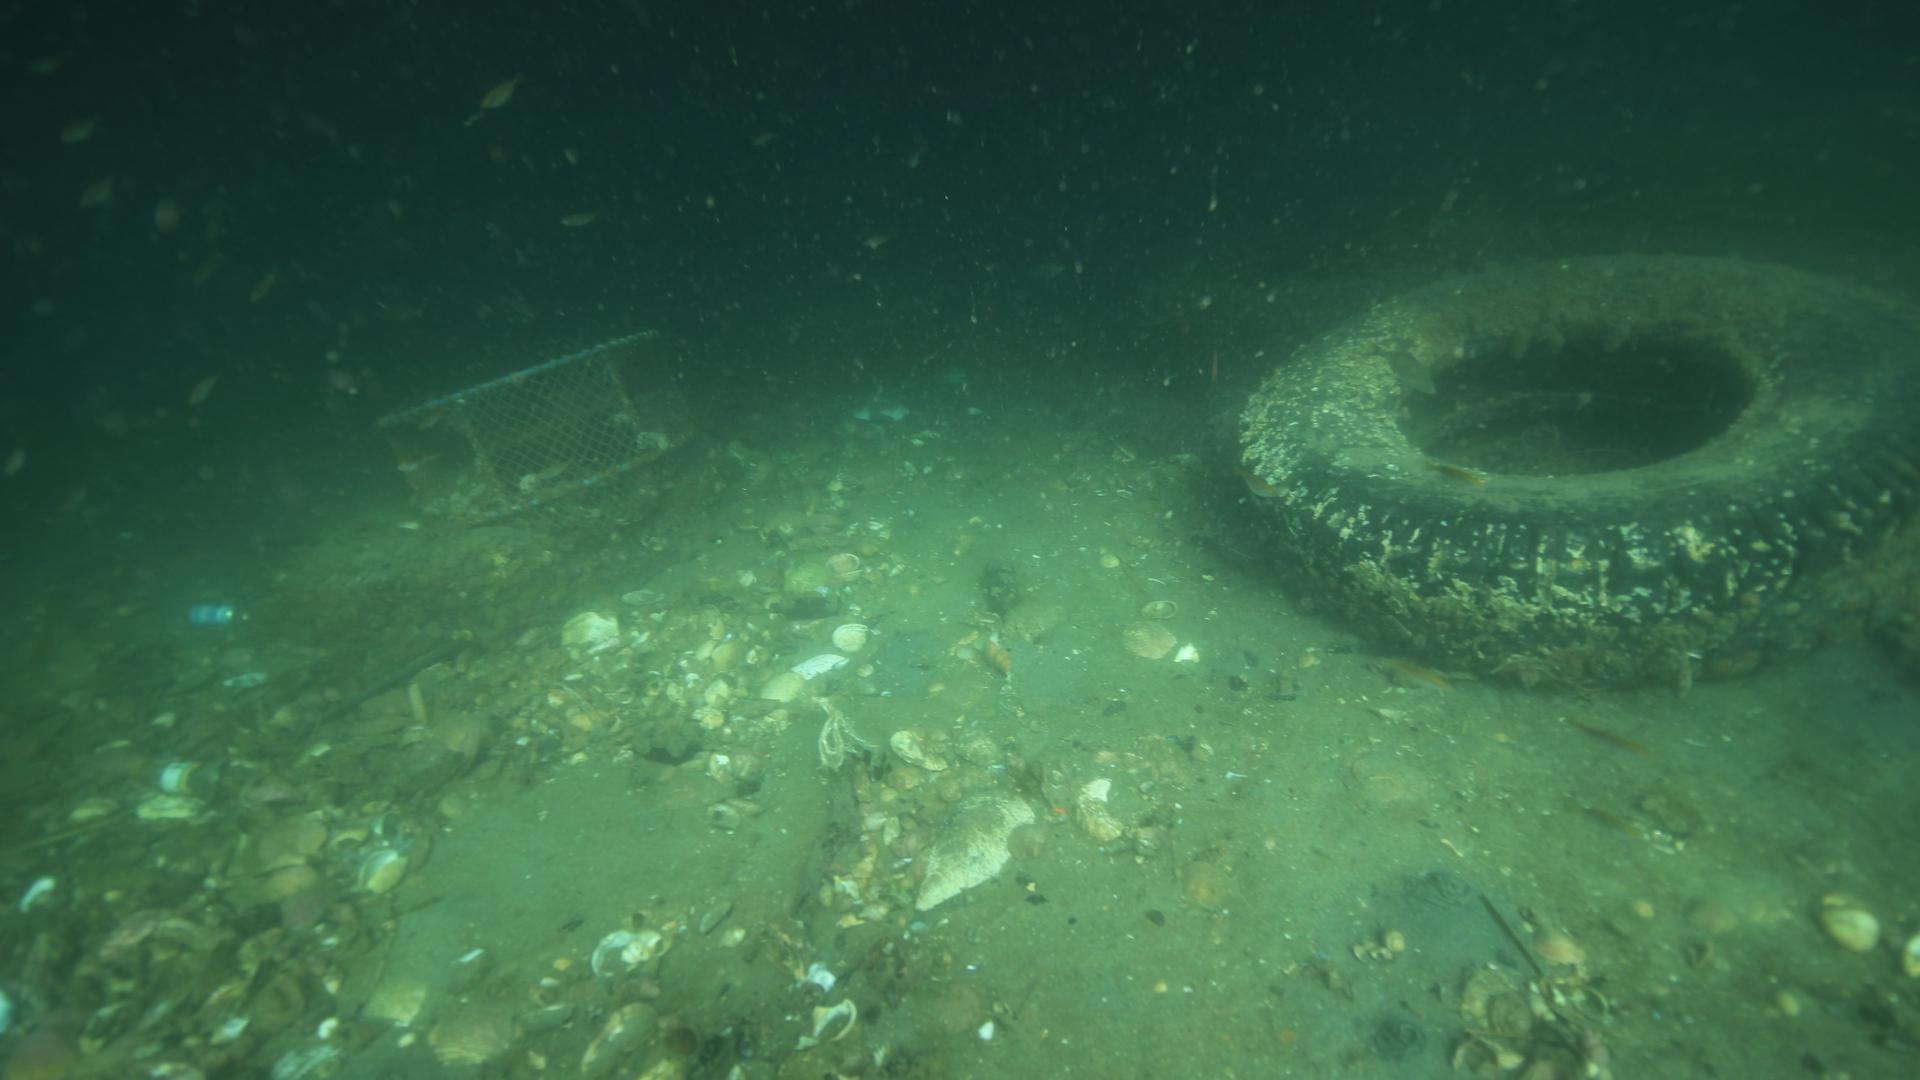circular fish trap: (373, 323, 713, 547)
tire: (1232, 248, 1920, 698)
